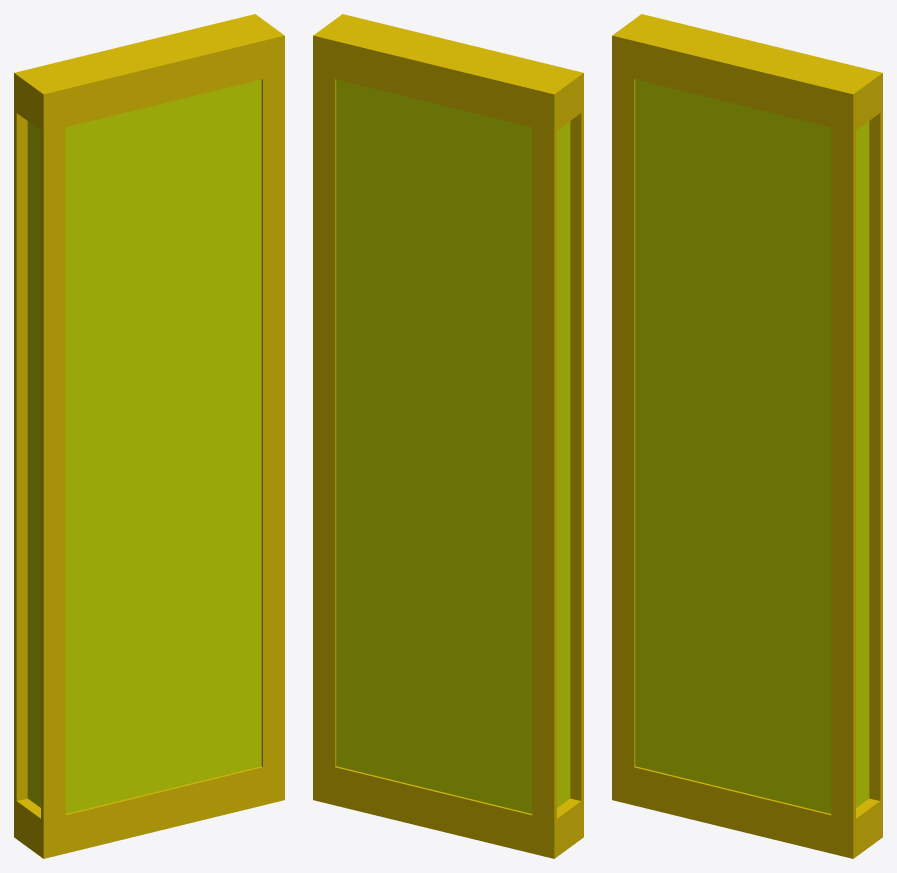
Rendered from wallpiece.fbx.
The picture shows the model from 3 angles, left to right: view 1: azimuth 30°, elevation 25°; view 2: azimuth 150°, elevation 25°; view 3: azimuth 330°, elevation 25°; orthographic projection.
Visible parts, largest first — view 1: Cube.002; view 2: Cube.002; view 3: Cube.002.
Part boxes in pixels (box(x1,y1,x2,y2)): Cube.002: box(14, 14, 284, 858); Cube.002: box(313, 14, 583, 858); Cube.002: box(612, 14, 882, 858).
Size of the model in its own units: 64.33 by 195 by 13.62.
